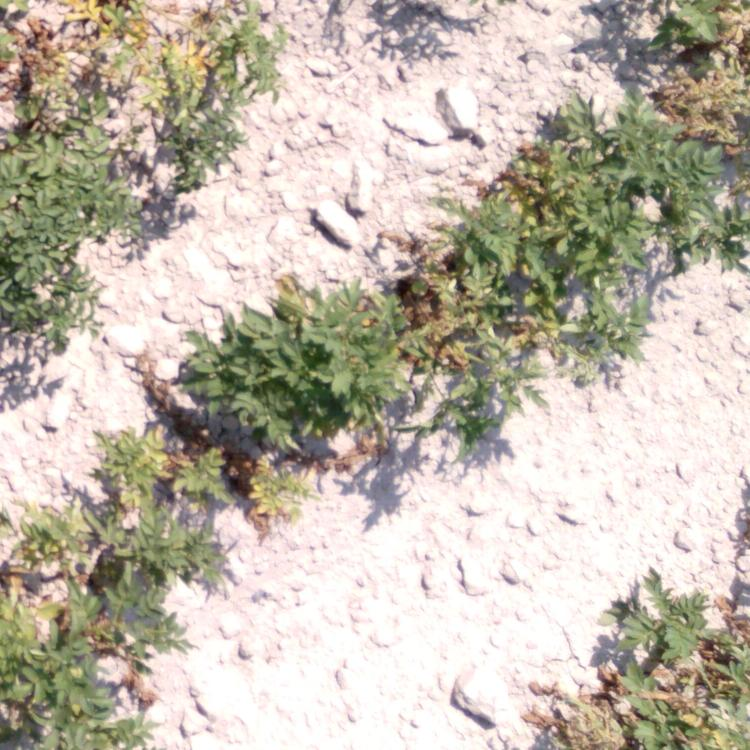healthy: (214, 294, 418, 454), (556, 135, 695, 256), (12, 129, 86, 337), (1, 607, 115, 740)
stressed: (5, 1, 239, 129), (413, 208, 558, 390), (556, 617, 747, 746), (43, 435, 207, 583), (654, 3, 737, 127), (212, 462, 306, 535)
